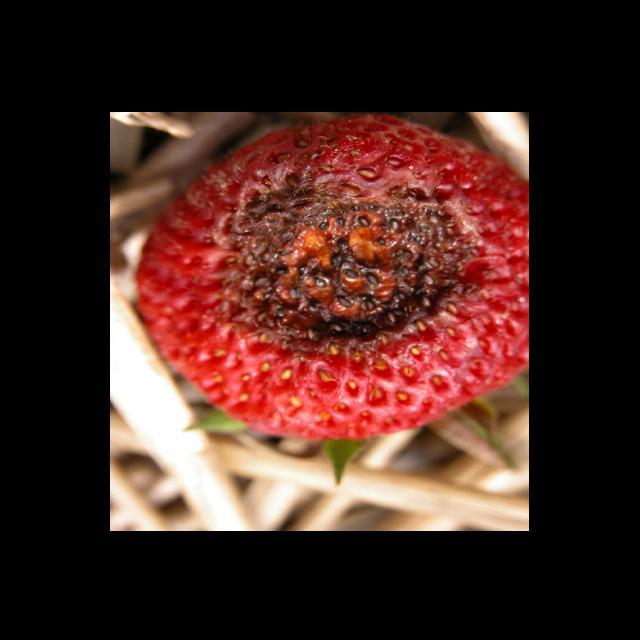Anthracnose Fruit Rot: (216, 164, 486, 367)
